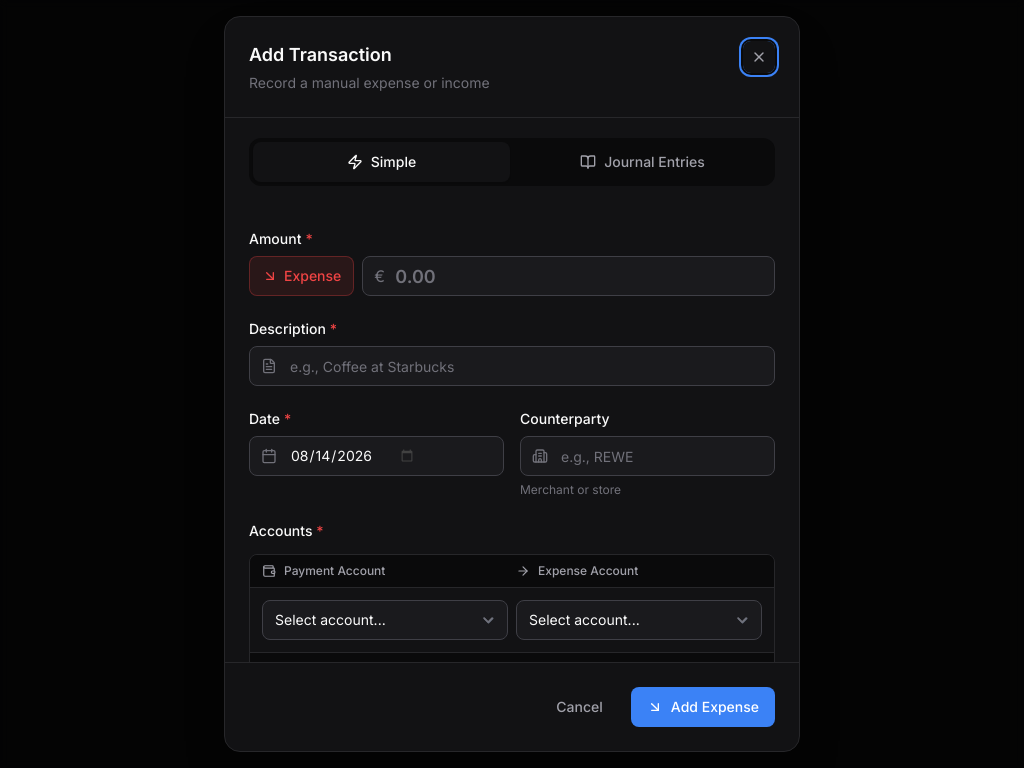
it: AddTransactionModal › expense/income toggle › switches to income when toggle is clicked
Note: Click toggle to switch from expense to income
Click the button with test id "type-toggle".
click(302, 276)  # box [249,256,354,296]
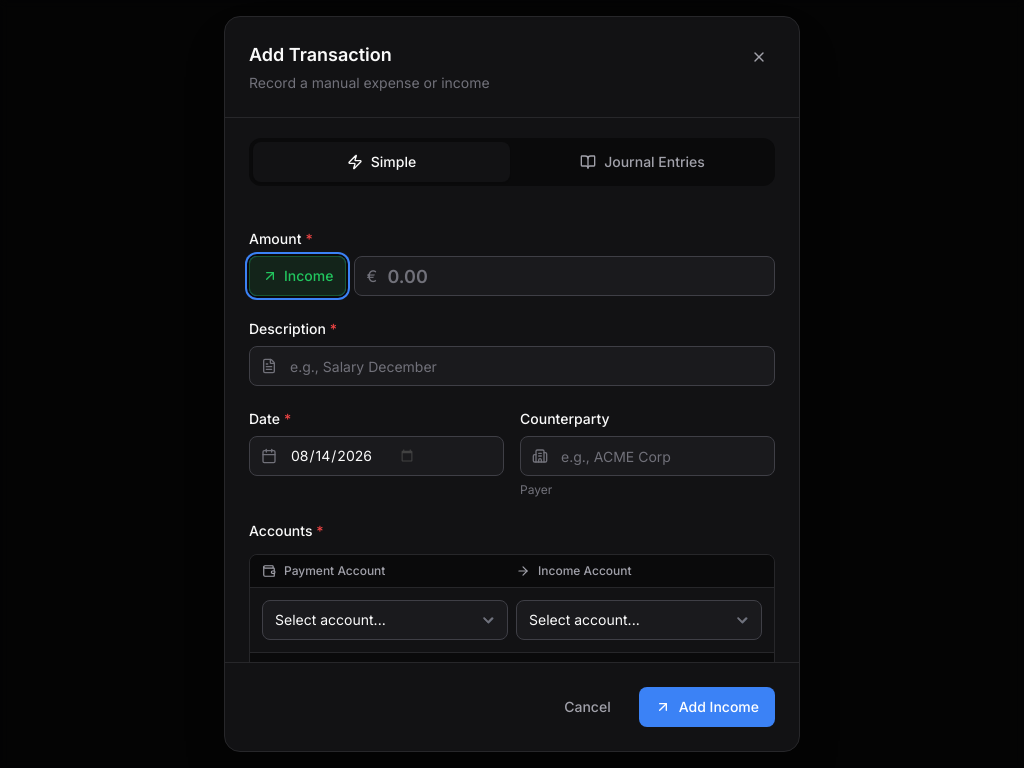
Expected: the button with test id "type-toggle" reads "Income", [249,256,346,296]
